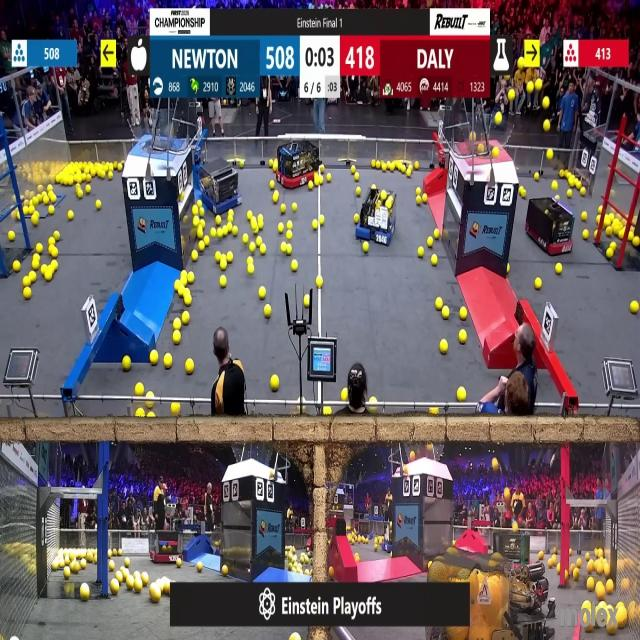ball_airborne: (494, 112, 502, 125), (541, 97, 548, 110), (492, 457, 499, 470), (526, 84, 534, 95), (542, 119, 549, 131), (518, 58, 525, 70), (507, 91, 514, 102), (478, 144, 485, 155), (492, 147, 499, 157), (535, 79, 541, 90), (503, 489, 509, 500), (546, 149, 552, 159), (513, 522, 519, 532), (552, 181, 558, 190), (411, 452, 416, 461), (427, 445, 432, 453), (504, 74, 509, 80)
ball_ground: (617, 610, 628, 630), (150, 586, 160, 603), (80, 586, 90, 602), (596, 586, 606, 600), (606, 623, 616, 636), (185, 358, 193, 374), (457, 387, 466, 401), (110, 581, 119, 595), (272, 376, 280, 391), (149, 351, 157, 365), (172, 404, 180, 418), (165, 354, 173, 368), (122, 356, 130, 369), (441, 341, 449, 354), (459, 331, 467, 344), (605, 582, 613, 595), (163, 583, 171, 596), (630, 302, 638, 314), (136, 384, 144, 396), (173, 333, 181, 345), (181, 312, 189, 324), (32, 260, 40, 272), (141, 572, 149, 584), (258, 286, 265, 299), (32, 213, 39, 226), (588, 579, 595, 592), (534, 278, 541, 290), (220, 276, 227, 288), (460, 308, 467, 320), (435, 297, 442, 309), (444, 307, 451, 319), (12, 262, 19, 274), (251, 220, 258, 232), (342, 387, 349, 399), (127, 577, 134, 589), (556, 265, 563, 276), (316, 277, 323, 288), (25, 288, 32, 299), (183, 294, 190, 305), (174, 318, 181, 329), (596, 564, 603, 575), (266, 306, 272, 318), (305, 295, 311, 307), (257, 218, 263, 230), (604, 564, 610, 576), (568, 176, 574, 188), (588, 562, 594, 574), (418, 247, 425, 257), (36, 244, 43, 254), (606, 249, 613, 259), (220, 262, 227, 272), (49, 248, 56, 258), (44, 272, 51, 282), (137, 409, 144, 419), (135, 583, 142, 593), (108, 561, 115, 571), (116, 572, 123, 582), (291, 262, 297, 273), (362, 242, 368, 253), (187, 273, 193, 284), (221, 565, 227, 576), (50, 262, 56, 273), (30, 272, 36, 283), (199, 240, 205, 251), (64, 567, 70, 578), (24, 278, 31, 287), (584, 600, 591, 609), (99, 170, 106, 179), (259, 245, 265, 255), (226, 252, 232, 262), (248, 266, 254, 276), (68, 210, 74, 220), (191, 251, 197, 261), (584, 231, 590, 241), (243, 234, 249, 244), (274, 190, 279, 202), (286, 245, 292, 255), (233, 225, 239, 235), (281, 244, 287, 254), (198, 228, 204, 238), (227, 213, 233, 223), (270, 180, 276, 190), (175, 279, 181, 289), (572, 569, 578, 579), (49, 192, 55, 202), (620, 230, 626, 240), (40, 265, 46, 275), (44, 196, 50, 206), (604, 216, 610, 226), (606, 228, 612, 238), (400, 166, 406, 176), (430, 409, 437, 417), (180, 272, 187, 280), (317, 176, 324, 184), (183, 287, 190, 295), (146, 399, 153, 407), (328, 567, 333, 578), (427, 238, 433, 247), (8, 233, 14, 242), (312, 220, 318, 229), (433, 231, 439, 240), (123, 559, 129, 568), (55, 233, 61, 242), (286, 232, 292, 241), (583, 212, 589, 221), (178, 287, 184, 296), (192, 217, 198, 226), (249, 244, 255, 253), (221, 229, 227, 238), (579, 187, 585, 196), (628, 232, 634, 241), (87, 184, 93, 193), (80, 560, 86, 569), (114, 163, 120, 172), (68, 178, 74, 187), (431, 254, 436, 264), (567, 188, 572, 198), (319, 215, 324, 225), (199, 563, 204, 573), (634, 238, 639, 248), (215, 252, 220, 262), (279, 222, 284, 232), (423, 195, 428, 205), (147, 413, 154, 420), (146, 391, 153, 398), (176, 560, 182, 568), (248, 255, 254, 263), (609, 242, 615, 250), (291, 204, 297, 212), (324, 409, 330, 417), (534, 173, 540, 181), (354, 174, 360, 182), (596, 215, 602, 223), (538, 552, 544, 560), (77, 189, 83, 197), (407, 170, 413, 178), (588, 625, 594, 633), (556, 565, 562, 573), (119, 162, 125, 170), (24, 208, 30, 216), (80, 174, 86, 182), (200, 219, 206, 227), (97, 201, 102, 210), (216, 216, 221, 225), (281, 205, 286, 214), (211, 229, 216, 238), (417, 197, 422, 206), (354, 214, 359, 223), (192, 207, 197, 216), (355, 554, 360, 563), (564, 569, 569, 578), (306, 186, 312, 193), (286, 221, 292, 228), (87, 175, 93, 182), (269, 161, 275, 168), (599, 602, 606, 608), (596, 208, 602, 215), (48, 207, 53, 215), (356, 186, 360, 196), (417, 187, 422, 195), (326, 174, 331, 182), (48, 238, 53, 246), (255, 238, 260, 246), (247, 211, 252, 219), (108, 172, 113, 180), (200, 209, 205, 217), (320, 166, 325, 174), (351, 166, 356, 174), (547, 560, 552, 568), (594, 232, 599, 240), (370, 161, 375, 169), (227, 224, 232, 232), (108, 551, 113, 559), (522, 188, 526, 197), (586, 554, 591, 561), (47, 184, 52, 191), (416, 163, 420, 171), (306, 568, 310, 576), (576, 560, 580, 568), (560, 170, 564, 178), (371, 183, 375, 190), (240, 162, 244, 169), (568, 550, 572, 557), (506, 266, 509, 275), (387, 552, 391, 558), (374, 546, 376, 553)
goal: (460, 116, 515, 158), (128, 117, 186, 152)
robot_blue: (357, 187, 398, 245), (200, 160, 242, 213), (354, 520, 376, 539)
robot_red: (529, 196, 576, 254), (275, 140, 319, 190), (150, 531, 185, 564)
